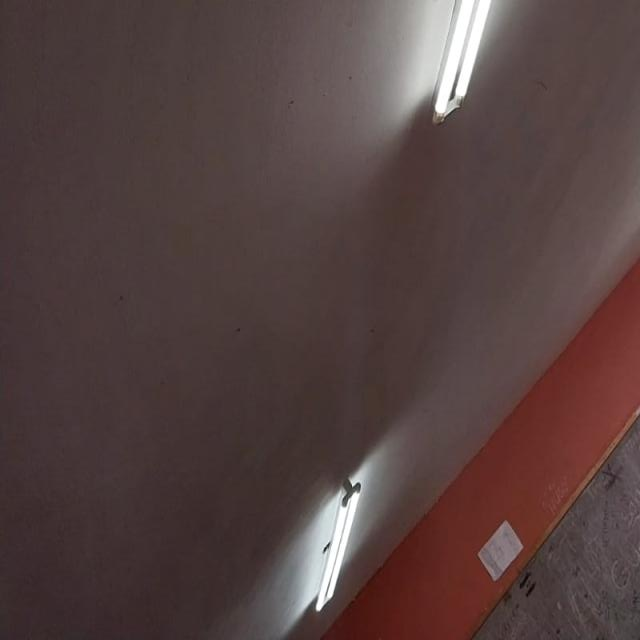fluorescent tube: (409, 0, 640, 158), (294, 469, 382, 635)
